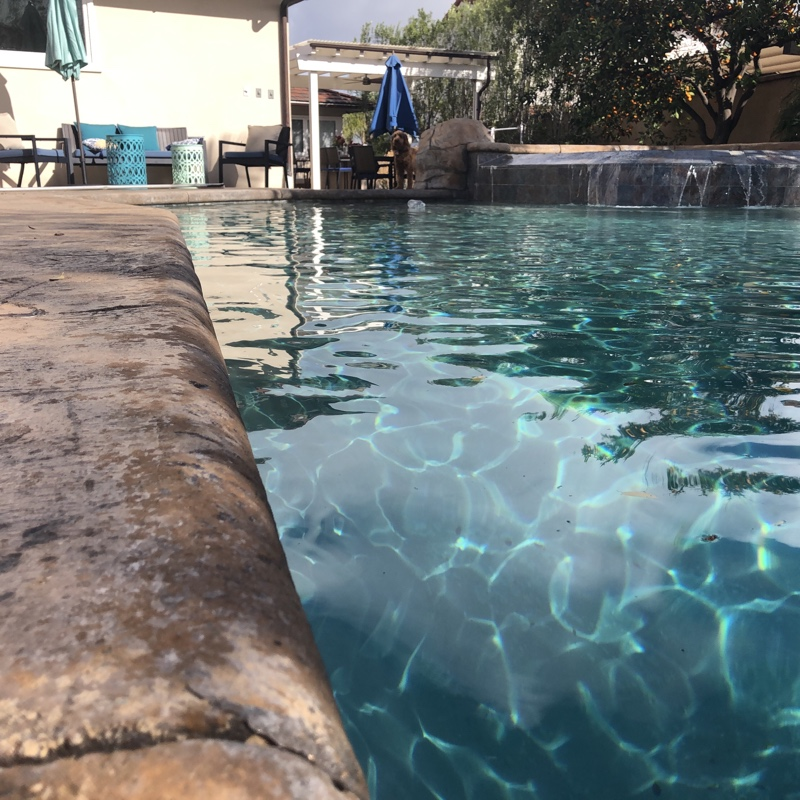Plastic Bottle: (403, 197, 427, 215)
